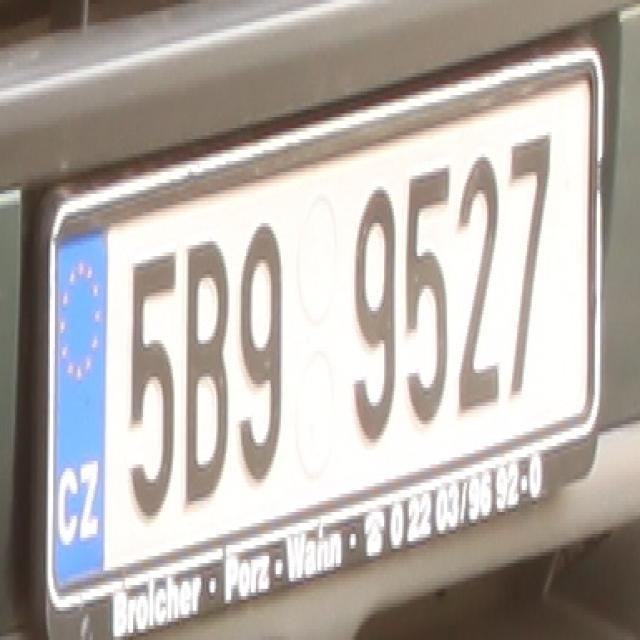2: (457, 146, 502, 414)
5: (130, 248, 174, 516), (404, 164, 447, 420)
7: (507, 132, 550, 396)
9: (350, 183, 396, 450), (239, 220, 281, 476)
B: (184, 238, 230, 504)
